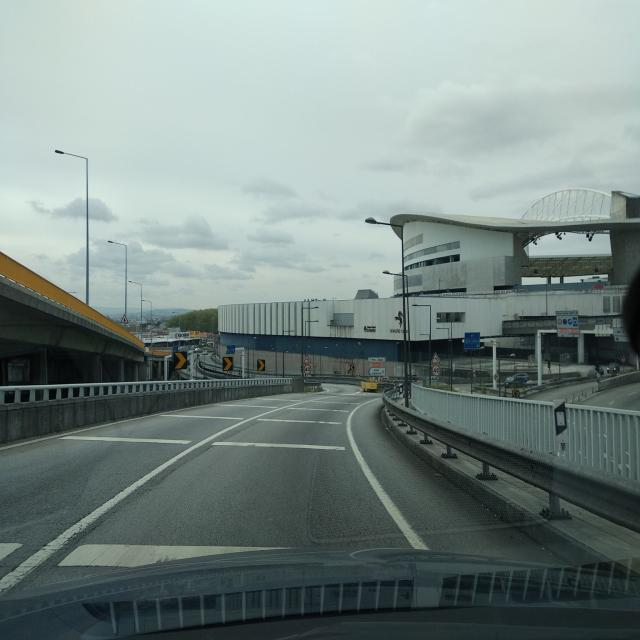car: (360, 376, 379, 393)
